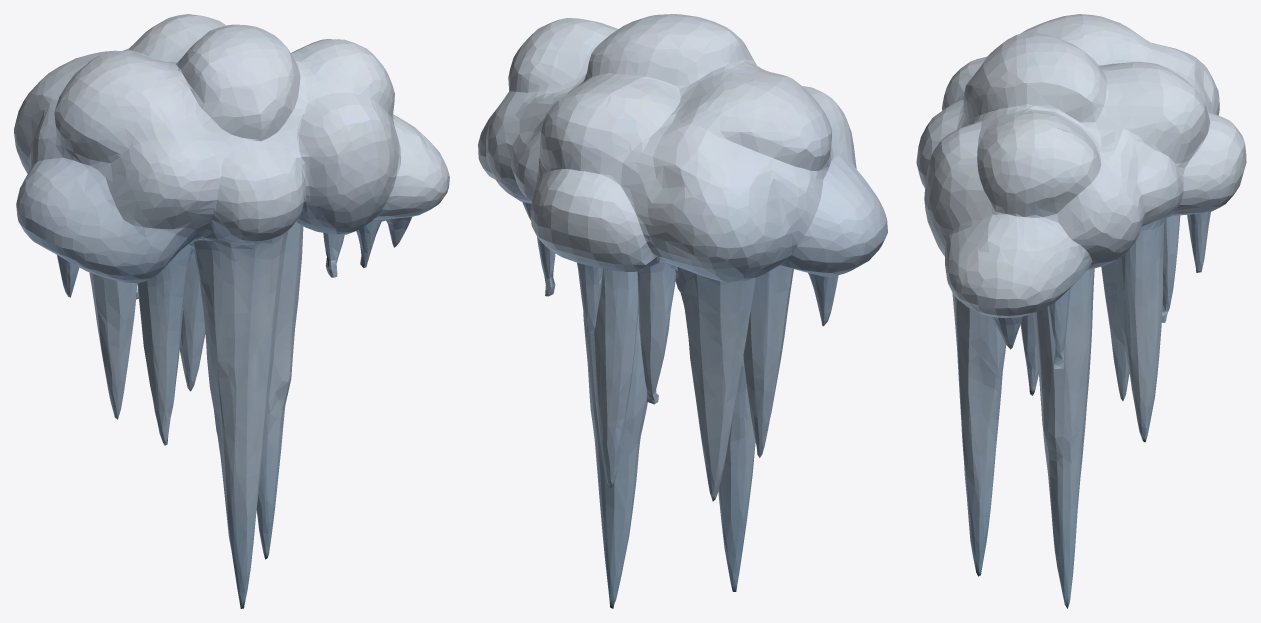
The model's file is spike_cloud.glb.
3 renders of one model, left to right at view 1: azimuth 30°, elevation 25°; view 2: azimuth 150°, elevation 25°; view 3: azimuth 270°, elevation 25°, orthographic. The views are drawn at different scales.
Parts seen in each view (by area): view 1: world; view 2: world; view 3: world.
Boxes of the visible parts, x1,y1,x2,y2 form: world: (14, 14, 449, 608); world: (478, 14, 887, 608); world: (916, 14, 1246, 608).
Size of the model in its own units: 0.7475 by 1 by 0.5514.
1 material, 1 textured.
